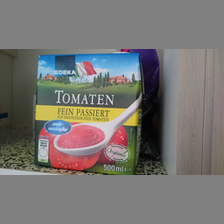tomato_sauce: (33, 52, 143, 174)
